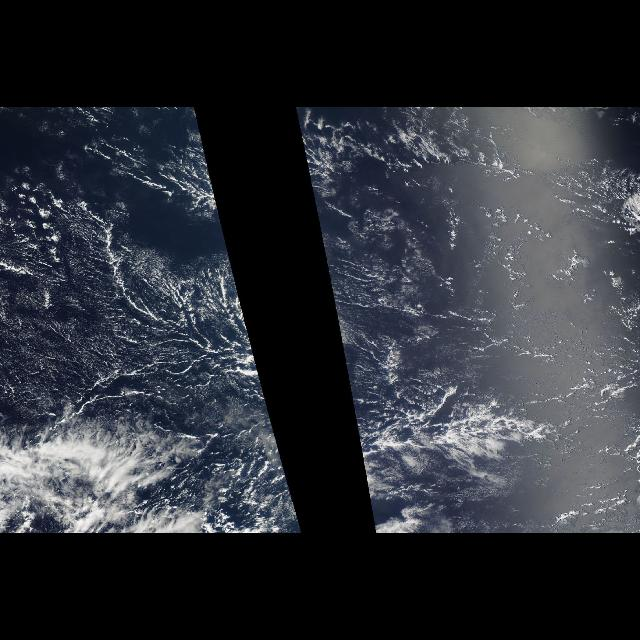Sugar: (1, 199, 266, 455), (314, 198, 626, 396)
